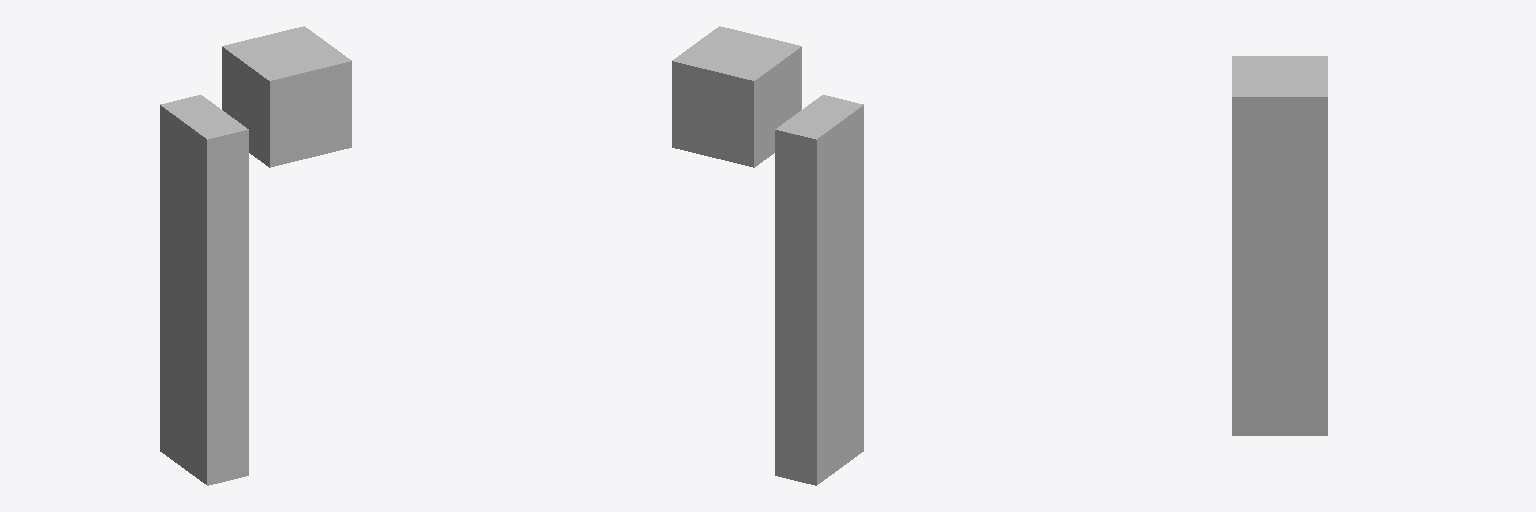
Rendered from maya_split_pivot_6.obj.
The picture shows the model from 3 angles: view 1: azimuth 30°, elevation 25°; view 2: azimuth 150°, elevation 25°; view 3: azimuth 270°, elevation 25°; orthographic projection.
Visible parts, largest first — view 1: pCube1, pCube1 pCube2; view 2: pCube1, pCube1 pCube2; view 3: pCube1, pCube1 pCube2.
Part boxes in pixels (left/top/right/bottom): pCube1: left=160, top=95, right=248, bottom=485; pCube1 pCube2: left=222, top=26, right=351, bottom=167; pCube1: left=775, top=95, right=863, bottom=485; pCube1 pCube2: left=672, top=26, right=801, bottom=167; pCube1: left=1232, top=183, right=1327, bottom=435; pCube1 pCube2: left=1232, top=56, right=1327, bottom=182.
Size of the model in its own units: 1.75 by 4.5 by 1.